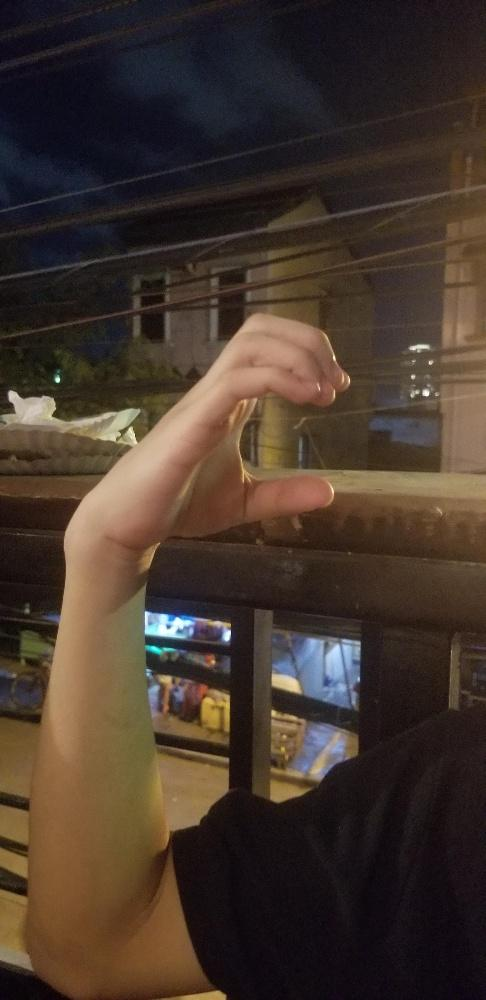c: (94, 309, 356, 549)
